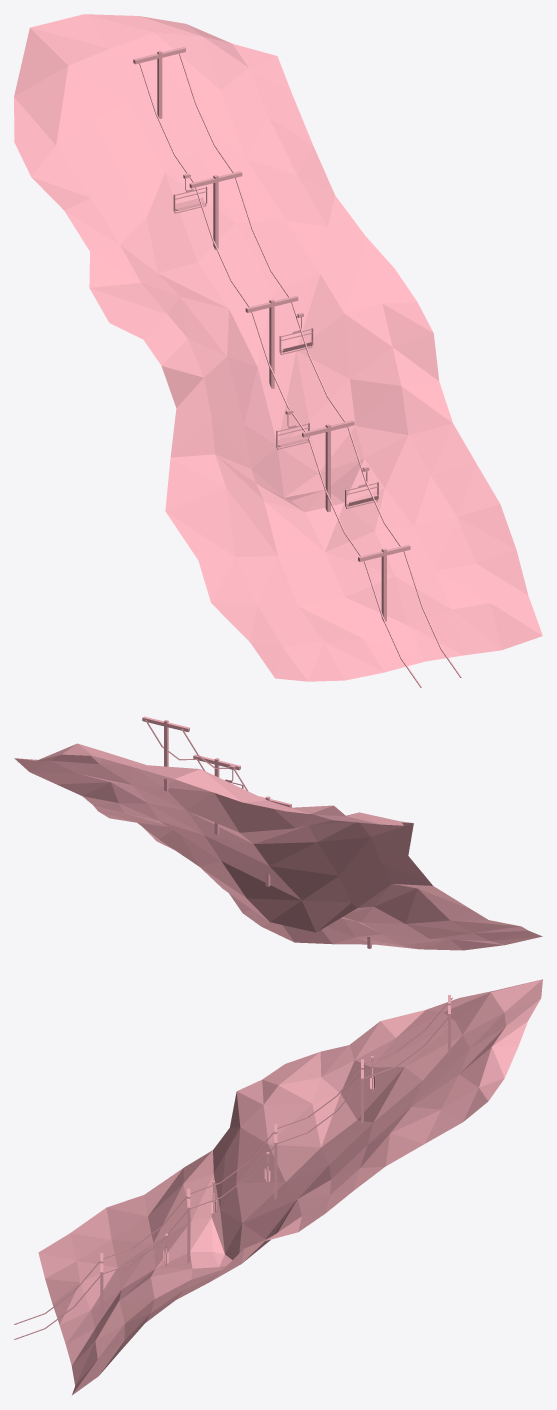
File: chairlift.glb
3 views of the same model, one above another, from view 1: azimuth 30°, elevation 25°; view 2: azimuth 150°, elevation 25°; view 3: azimuth 270°, elevation 25° (orthographic). The views are drawn at different scales.
Parts seen in each view (by area): view 1: Chairlift_mesh; view 2: Chairlift_mesh; view 3: Chairlift_mesh.
Boxes of the visible parts, x1=… form: Chairlift_mesh: x1=14, y1=14, x2=542, y2=687; Chairlift_mesh: x1=14, y1=716, x2=542, y2=950; Chairlift_mesh: x1=14, y1=979, x2=542, y2=1395.
Size of the model in its own units: 19.14 by 24.69 by 34.27.
